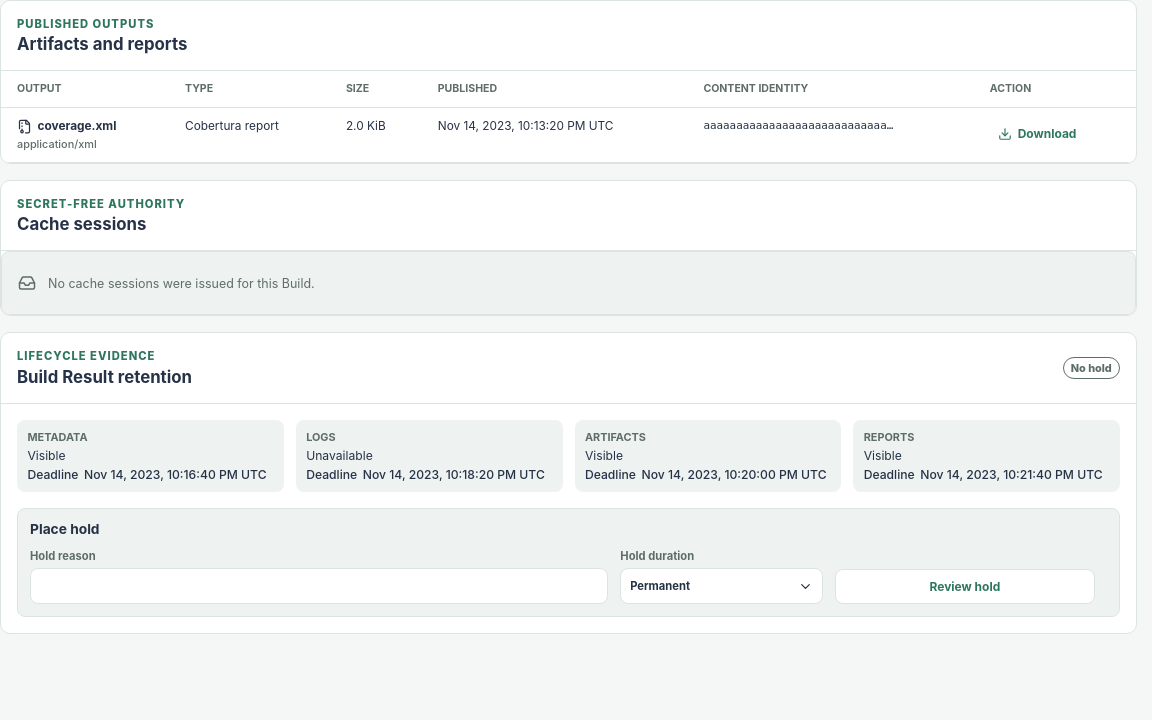
Test case: Build Result diagnostics › does not request a private capability when the browser blocks the download window
Click the button with aria-label "Download coverage.xml" at (1037, 134), box [990,119,1085,149]
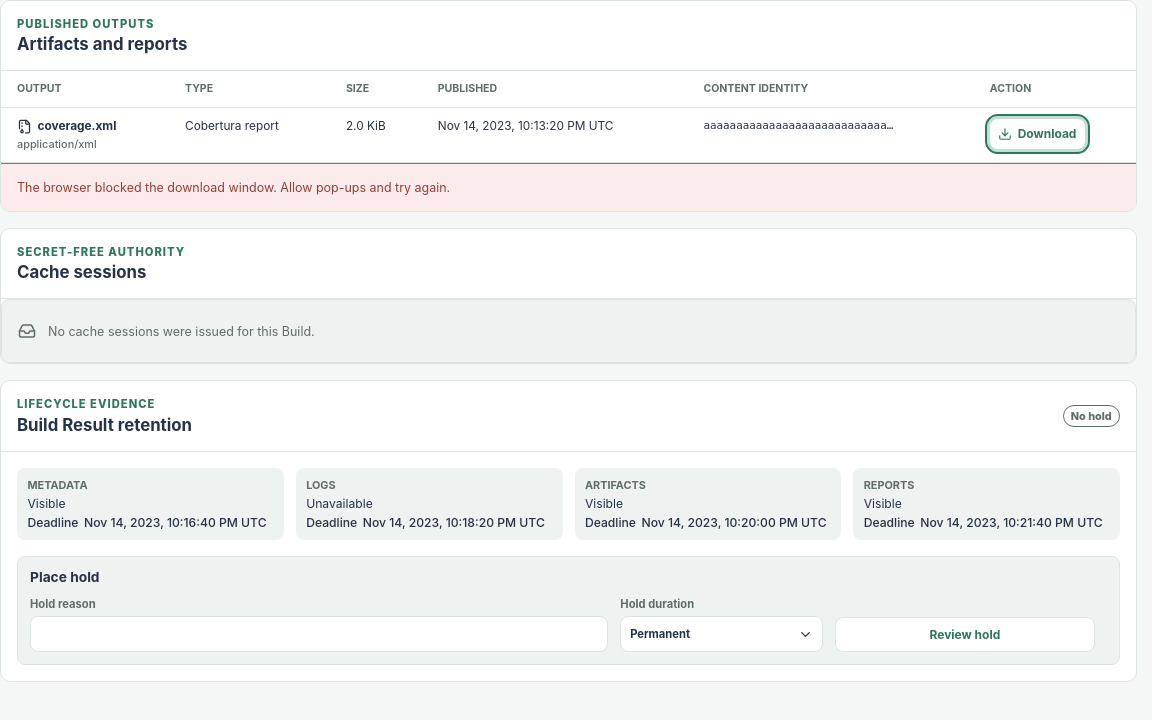
Result: the message "The browser blocked the download window. Allow pop-ups and try again." is shown at [1,163,1136,211]
